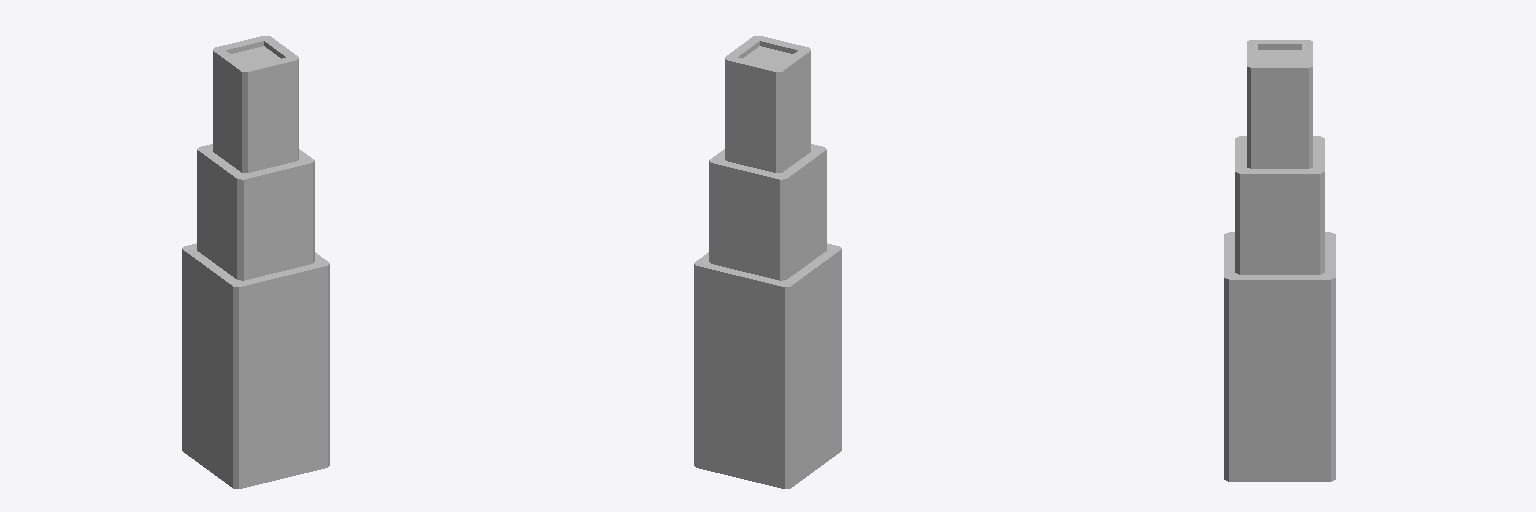
Rendered from low-detail-building-f.obj.
3 views of the same model, side by side, from view 1: azimuth 30°, elevation 25°; view 2: azimuth 150°, elevation 25°; view 3: azimuth 270°, elevation 25° (orthographic).
Parts seen in each view (by area): view 1: low-detail-building-f; view 2: low-detail-building-f; view 3: low-detail-building-f.
Part boxes in pixels (bbox=[...]): low-detail-building-f: bbox=[182, 36, 329, 488]; low-detail-building-f: bbox=[694, 36, 841, 488]; low-detail-building-f: bbox=[1224, 40, 1335, 481].
Size of the model in its own units: 0.5 by 2 by 0.5.